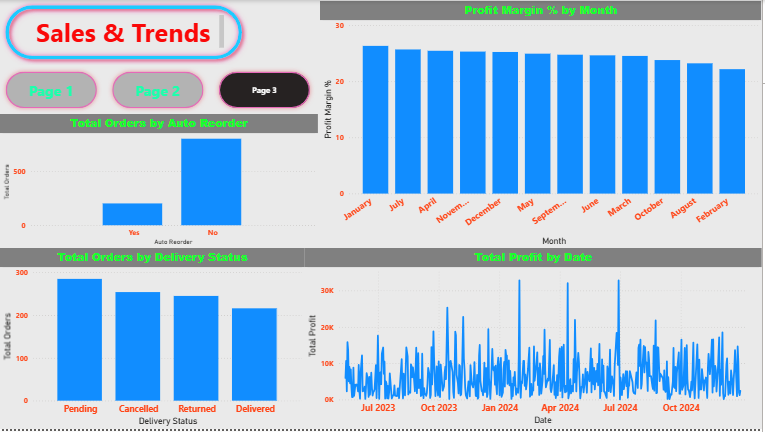

Layout of this report page (visuals, bound fields, positions):
{"tool":"powerbi","page":{"name":"Dashboard_3","canvas":[1280,720],"ordinal":2},"visuals":[{"type":"lineStackedColumnComboChart","fields":{"Category":["Date Table.Month"],"Y":["Date Table.Profit Margin %"]},"box":[537.9,1.7,741.4,415.5],"z":0},{"type":"clusteredColumnChart","fields":{"Category":["Familiars_Clothing_Database.Delivery Status"],"Y":["Date Table.Total Orders"]},"box":[0,417.2,512.1,303.4],"z":1000},{"type":"lineChart","fields":{"Category":["Date Table.Date"],"Y":["Date Table.Total Profit"]},"box":[512.1,417.2,767.2,301.7],"z":2000},{"type":"clusteredColumnChart","fields":{"Category":["Familiars_Clothing_Database.Auto Reorder"],"Y":["Date Table.Total Orders"]},"box":[0,191.4,534.5,225.9],"z":3000},{"type":"shape","box":[0,0,415.5,108.6],"z":4000},{"type":"textbox","box":[39.7,20.7,341.4,65.5],"z":5000},{"type":"pageNavigator","box":[1.7,112.1,527.6,77.6],"z":6000}]}

Visuals, with their boxes in screenshot pixels (x1, y1, x2, y2), scaled from the page's 1280x720 canvas onto the 765x432 screenshot:
lineStackedColumnComboChart - Date Table.Month x Date Table.Profit Margin %: bbox=[321, 1, 764, 250]
clusteredColumnChart - Familiars_Clothing_Database.Delivery Status x Date Table.Total Orders: bbox=[0, 250, 306, 431]
lineChart - Date Table.Date x Date Table.Total Profit: bbox=[306, 250, 764, 431]
clusteredColumnChart - Familiars_Clothing_Database.Auto Reorder x Date Table.Total Orders: bbox=[0, 115, 319, 250]
shape: bbox=[0, 0, 248, 65]
textbox: bbox=[24, 12, 228, 52]
pageNavigator: bbox=[1, 67, 316, 114]
